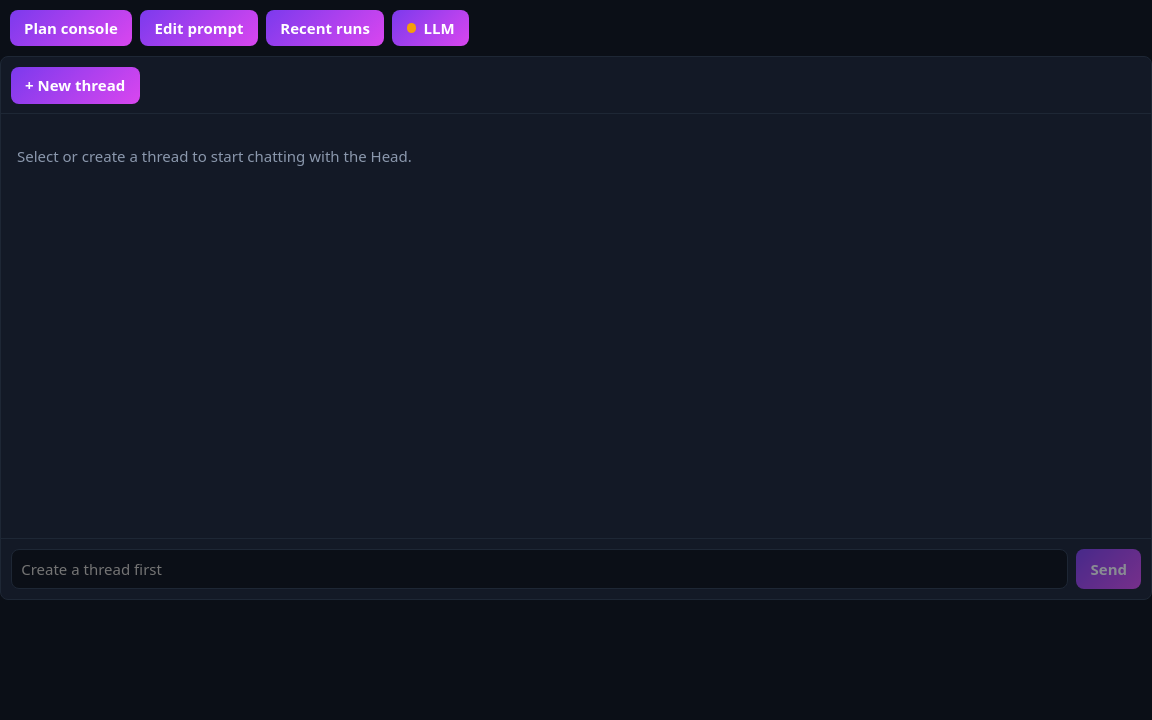
Scenario: HeadHQ › shows the empty state for history in the recent runs panel
Step 1. Click the button "Recent runs" → (325, 28), box [266,10,384,46]
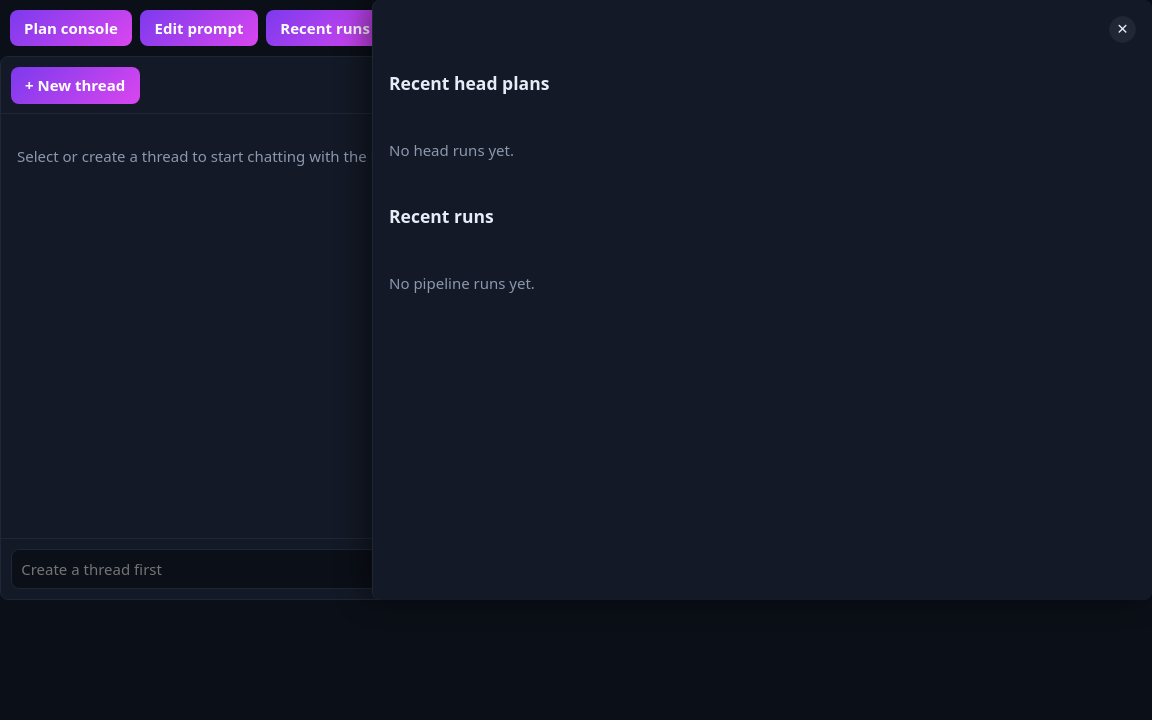
Expected: the text "No head runs yet." is shown, [389,140,514,160]
Expected: the text "No pipeline runs yet." is shown, [389,273,535,293]
